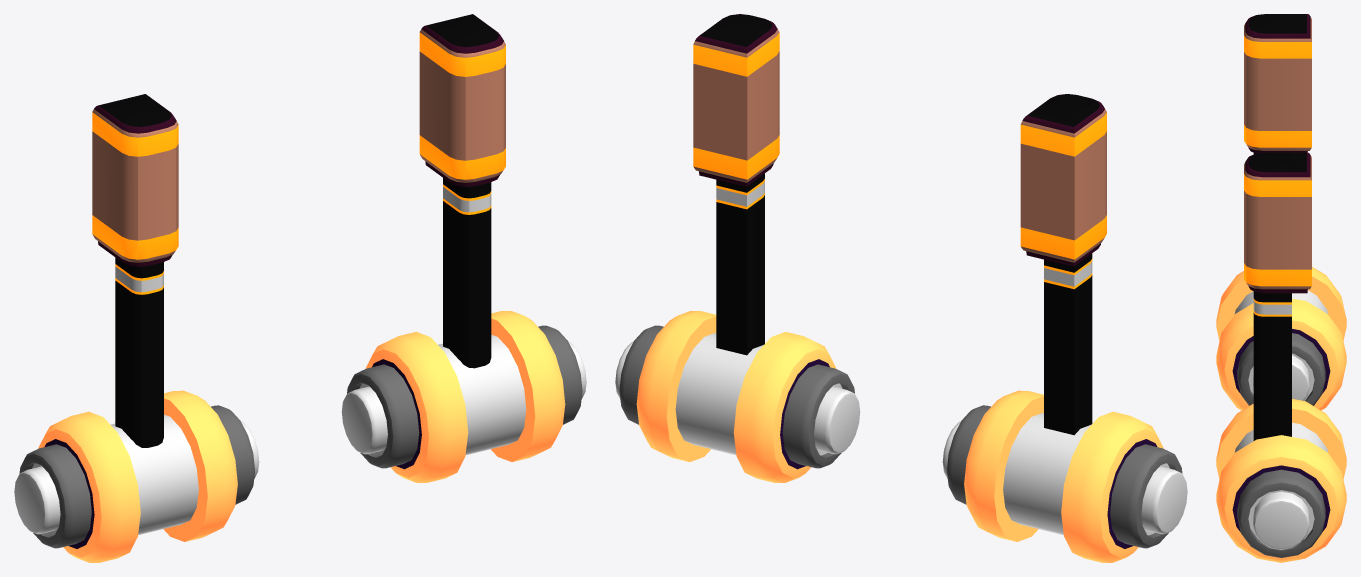
File: levers.fbx
3 renders of one model, left to right at view 1: azimuth 30°, elevation 25°; view 2: azimuth 150°, elevation 25°; view 3: azimuth 270°, elevation 25°, orthographic. The views are drawn at different scales.
Visible parts, largest first — view 1: Cylinder.013, Cylinder.005; view 2: Cylinder.013, Cylinder.005; view 3: Cylinder.005, Cylinder.013.
Boxes of the visible parts, bbox=[...] form: Cylinder.013: bbox=[14, 94, 259, 562]; Cylinder.005: bbox=[341, 14, 586, 482]; Cylinder.013: bbox=[942, 94, 1187, 562]; Cylinder.005: bbox=[615, 14, 860, 482]; Cylinder.005: bbox=[1216, 152, 1346, 562]; Cylinder.013: bbox=[1216, 14, 1346, 410].
Size of the model in its own units: 78.86 by 60.33 by 18.91.
